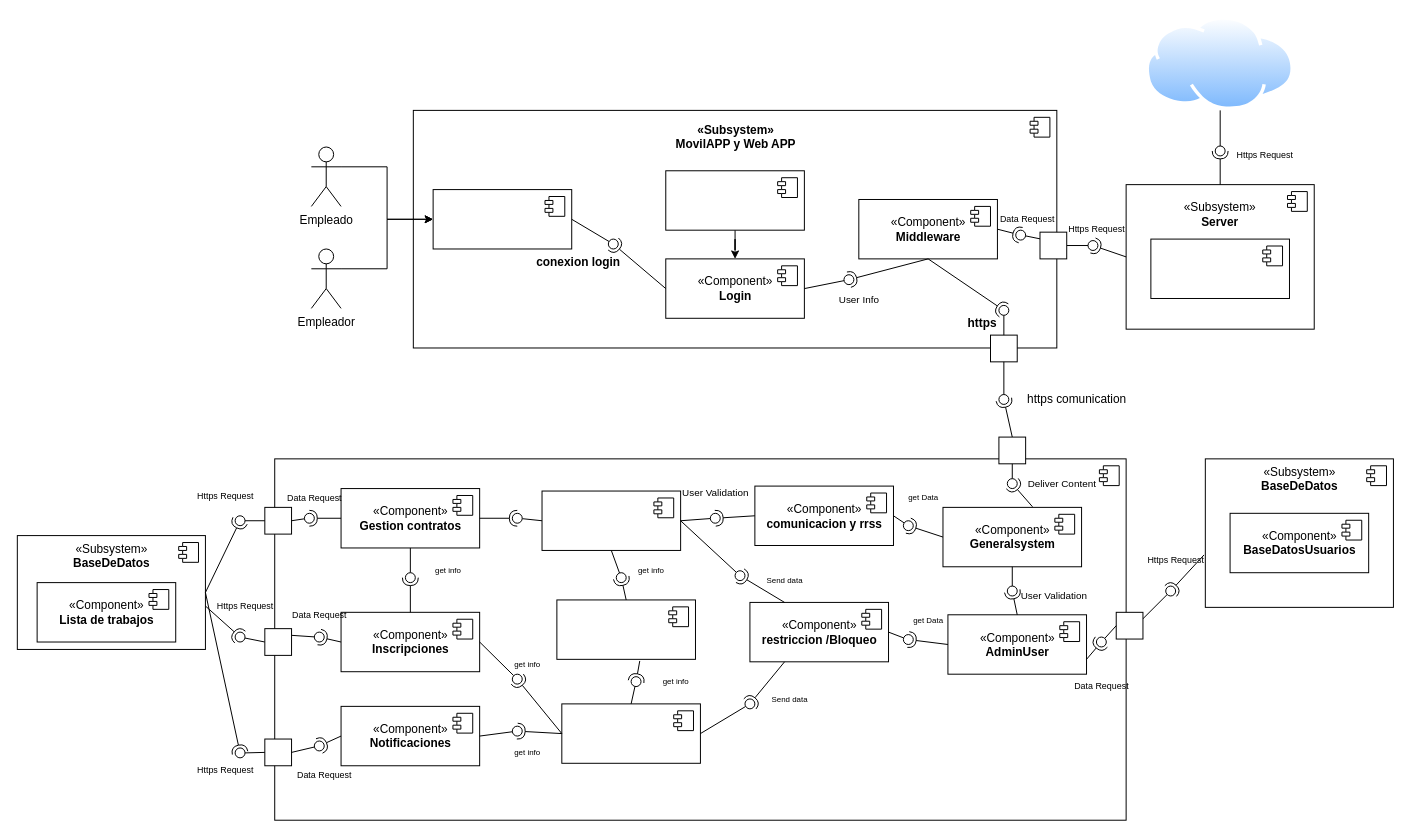
Some shapes in this 1411 by 838 pixel diagram are drawn without their labels. The shapes that lost their labels are listed below. From the top down, each one's centre as x and y in pixels, then its label:
At (502,219): "«Component» InicioApp".
At (734,200): "«Component» Interfaz".
At (1219,268): "«Component» Servidor".
At (611,520): "«Component» Empleador".
At (625,629): "«Component» interview".
At (630,733): "«Component» Empleado".
